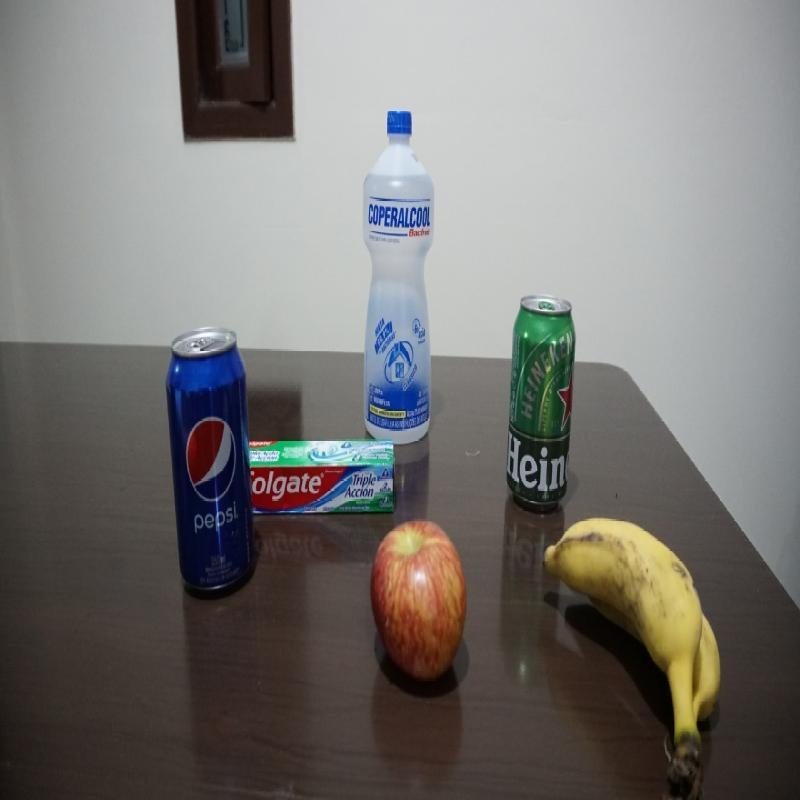Alcohol Bottle: (360, 108, 437, 444)
Apple: (369, 518, 468, 686)
Banana: (542, 517, 724, 797)
Beer can: (505, 293, 577, 518)
Soda can: (164, 326, 254, 596)
Toothpaste: (249, 436, 398, 517)
